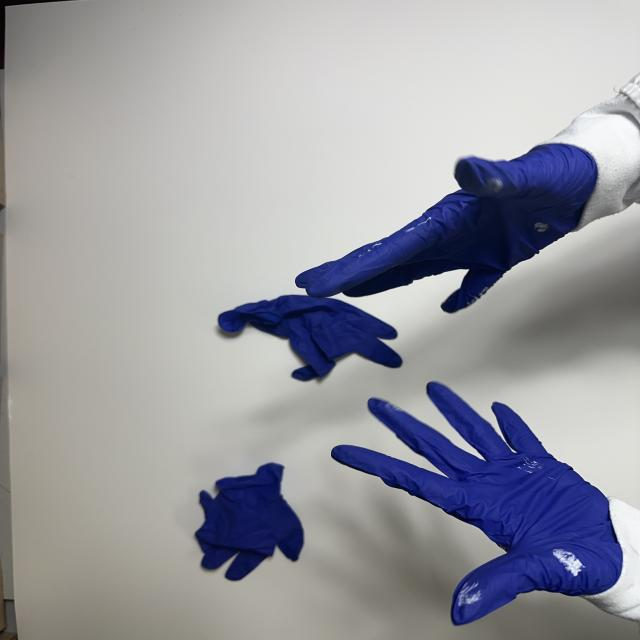gloves_contaminated: (332, 382, 631, 624), (296, 143, 598, 313)
